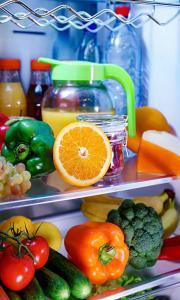Brocoli: (103, 197, 168, 274)
Tomate: (0, 244, 38, 293)
